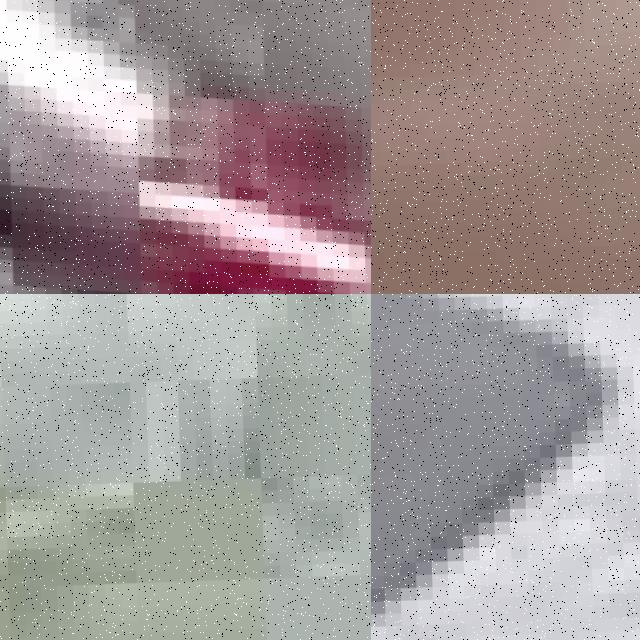drone: (0, 0, 371, 294)
